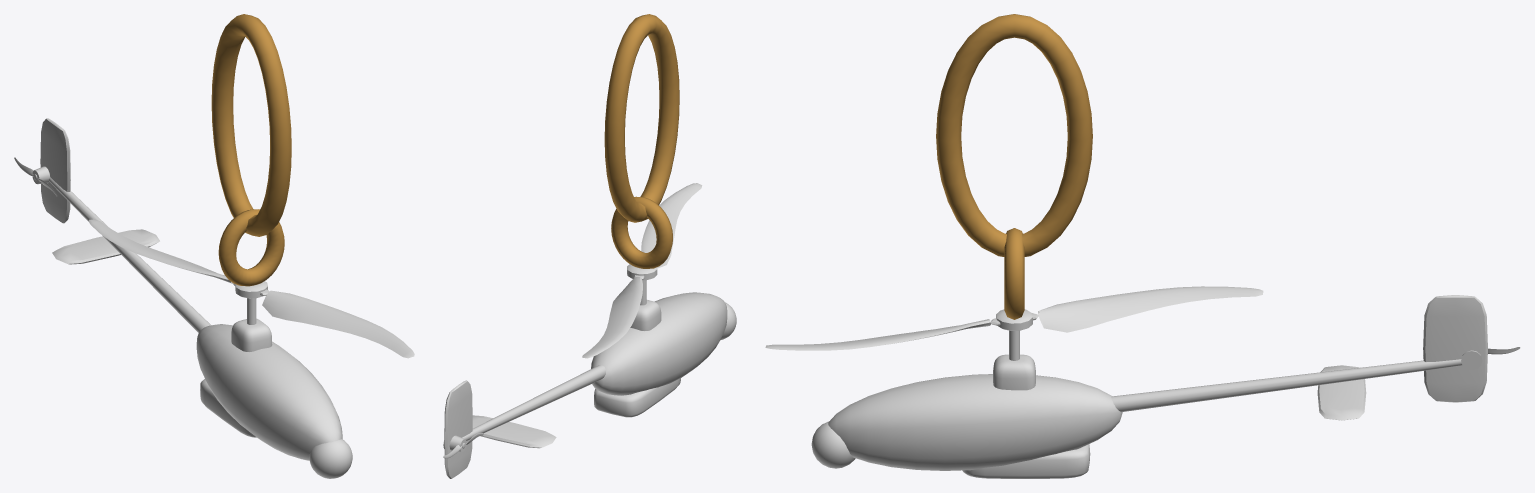
File: pocket_scout_lod0.obj
3 views of the same model, side by side, from view 1: azimuth 30°, elevation 25°; view 2: azimuth 150°, elevation 25°; view 3: azimuth 270°, elevation 25° (orthographic). The views are drawn at different scales.
Visible parts, largest first — view 1: pocket_scout_lod0; view 2: pocket_scout_lod0; view 3: pocket_scout_lod0.
Part boxes in pixels (x1=…): pocket_scout_lod0: x1=14, y1=14, x2=414, y2=478; pocket_scout_lod0: x1=443, y1=14, x2=736, y2=478; pocket_scout_lod0: x1=765, y1=14, x2=1520, y2=478.
Bounding box in the file's own units: 0.2654 × 0.8756 × 1.32.
